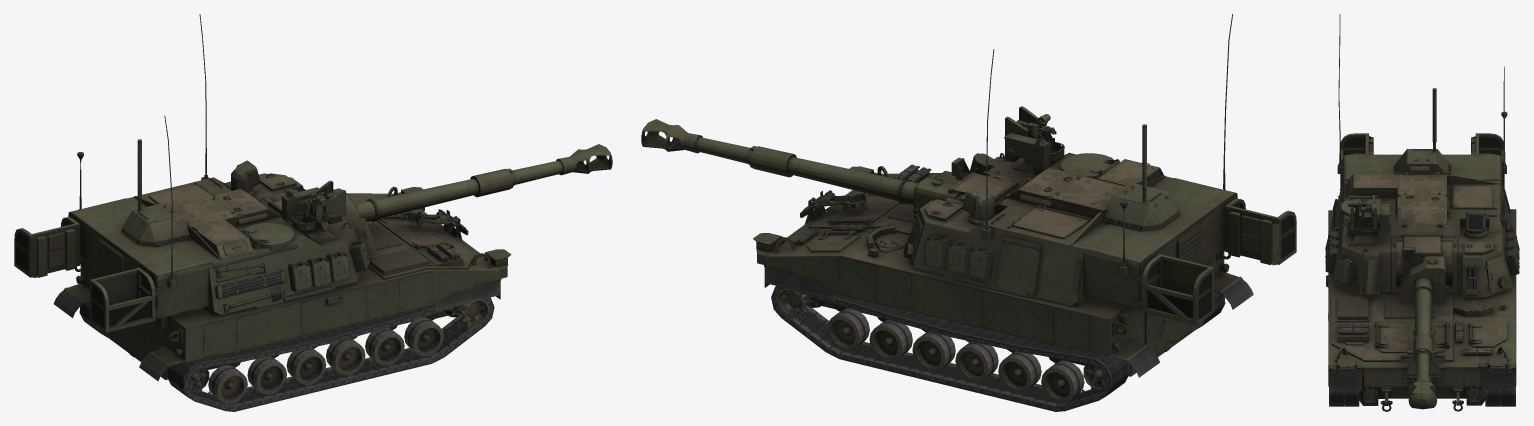
3 views of the same model, side by side, from view 1: azimuth 30°, elevation 25°; view 2: azimuth 150°, elevation 25°; view 3: azimuth 270°, elevation 25° (orthographic). The views are drawn at different scales.
Visible parts, largest first — view 1: Object_2, Object_3; view 2: Object_2, Object_3; view 3: Object_2, Object_3.
Part boxes in pixels (x1=…): Object_2: x1=14, y1=14, x2=612, y2=403; Object_3: x1=79, y1=297, x2=494, y2=411; Object_2: x1=641, y1=14, x2=1296, y2=403; Object_3: x1=771, y1=286, x2=1225, y2=411; Object_2: x1=1325, y1=14, x2=1519, y2=411; Object_3: x1=1329, y1=378, x2=1515, y2=406.
Size of the model in its own units: 49.28 by 26.68 by 16.83.
Materials: 2 (2 with a texture image).
